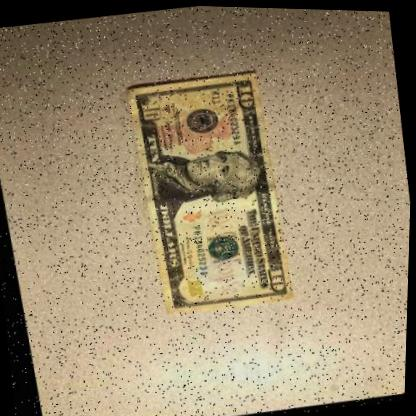ten-front: (116, 66, 298, 322)
